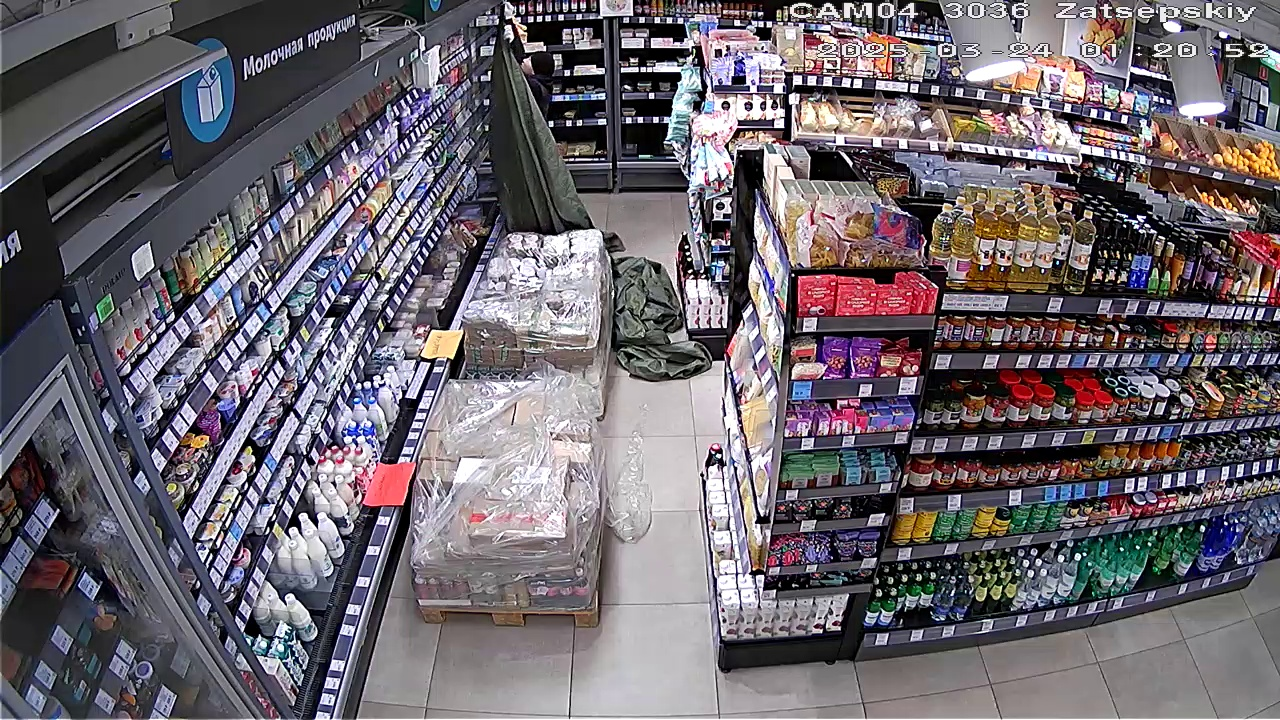Human: (499, 0, 558, 103)
pallet: (412, 373, 600, 624), (466, 231, 604, 372)
